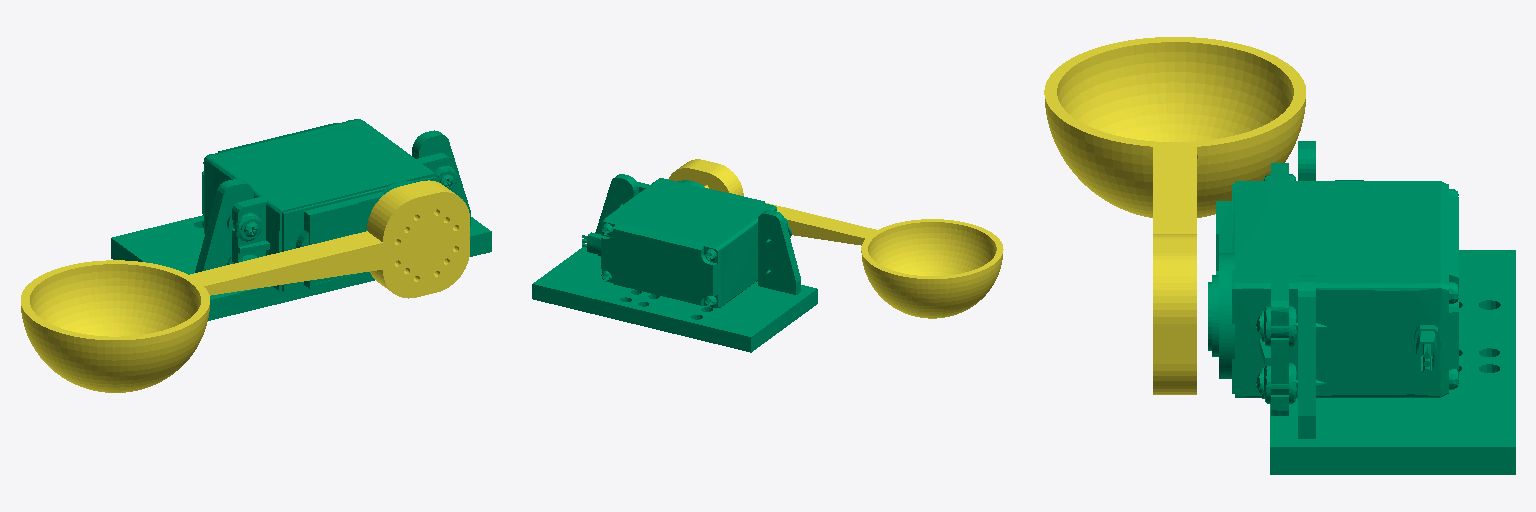
URDF robot description (turtlebot3_burger_cam1):
<?xml version="1.0"?>
<robot name="turtlebot3_burger_cam1"
  xmlns:xacro="http://ros.org/wiki/xacro">

  <material name="black">
    <color rgba="0.0 0.0 0.0 1.0" />
  </material>

  <material name="dark">
    <color rgba="0.3 0.3 0.3 1.0" />
  </material>

  <material name="light_black">
    <color rgba="0.4 0.4 0.4 1.0" />
  </material>

  <material name="blue">
    <color rgba="0.0 0.0 0.8 1.0" />
  </material>

  <material name="green">
    <color rgba="0.0 0.8 0.0 1.0" />
  </material>

  <material name="grey">
    <color rgba="0.5 0.5 0.5 1.0" />
  </material>

  <material name="orange">
    <color rgba="1.0 0.4235 0.0392 1.0" />
  </material>

  <material name="brown">
    <color rgba="0.8706 0.8118 0.7647 1.0" />
  </material>

  <material name="red">
    <color rgba="0.8 0.0 0.0 1.0" />
  </material>

  <material name="white">
    <color rgba="1.0 1.0 1.0 1.0" />
  </material>

  <link name="base_footprint" />

  <joint name="base_joint" type="fixed">
    <parent link="base_footprint" />
    <child link="base_link" />
    <origin xyz="0.0 0.0 0.010" rpy="0 0 0" />
  </joint>

  <link name="base_link">
    <visual>
      <origin xyz="-0.032 0 0.0" rpy="0 0 0" />
      <geometry>
        <mesh filename="package://catapaf_gazebo/models/catapaf_common/meshes/bases/burger_base.stl"
          scale="0.001 0.001 0.001" />
      </geometry>
      <material name="light_black" />
    </visual>

    <collision>
      <origin xyz="-0.032 0 0.070" rpy="0 0 0" />
      <geometry>
        <box size="0.140 0.140 0.143" />
      </geometry>
    </collision>

    <inertial>
      <origin xyz="0 0 0" rpy="0 0 0" />
      <mass value="8.2573504e-01" />
      <inertia ixx="2.2124416e-03" ixy="-1.2294101e-05" ixz="3.4938785e-05" iyy="2.1193702e-03"
        iyz="-5.0120904e-06" izz="2.0064271e-03" />
    </inertial>
  </link>

  <joint name="wheel_left_joint" type="continuous">
    <parent link="base_link" />
    <child link="wheel_left_link" />
    <origin xyz="0.0 0.08 0.023" rpy="-1.57 0 0" />
    <axis xyz="0 0 1" />
  </joint>

  <link name="wheel_left_link">
    <visual>
      <origin xyz="0 0 0" rpy="1.57 0 0" />
      <geometry>
        <mesh filename="package://catapaf_gazebo/models/catapaf_common/meshes/wheels/left_tire.stl"
          scale="0.001 0.001 0.001" />
      </geometry>
      <material name="dark" />
    </visual>

    <collision>
      <origin xyz="0 0 0" rpy="0 0 0" />
      <geometry>
        <cylinder length="0.018" radius="0.033" />
      </geometry>
    </collision>

    <inertial>
      <origin xyz="0 0 0" />
      <mass value="2.8498940e-02" />
      <inertia ixx="1.1175580e-05" ixy="-4.2369783e-11" ixz="-5.9381719e-09" iyy="1.1192413e-05"
        iyz="-1.4400107e-11" izz="2.0712558e-05" />
    </inertial>
  </link>

  <joint name="wheel_right_joint" type="continuous">
    <parent link="base_link" />
    <child link="wheel_right_link" />
    <origin xyz="0.0 -0.080 0.023" rpy="-1.57 0 0" />
    <axis xyz="0 0 1" />
  </joint>

  <link name="wheel_right_link">
    <visual>
      <origin xyz="0 0 0" rpy="1.57 0 0" />
      <geometry>
        <mesh filename="package://catapaf_gazebo/models/catapaf_common/meshes/wheels/right_tire.stl"
          scale="0.001 0.001 0.001" />
      </geometry>
      <material name="dark" />
    </visual>

    <collision>
      <origin xyz="0 0 0" rpy="0 0 0" />
      <geometry>
        <cylinder length="0.018" radius="0.033" />
      </geometry>
    </collision>

    <inertial>
      <origin xyz="0 0 0" />
      <mass value="2.8498940e-02" />
      <inertia ixx="1.1175580e-05" ixy="-4.2369783e-11" ixz="-5.9381719e-09" iyy="1.1192413e-05"
        iyz="-1.4400107e-11" izz="2.0712558e-05" />
    </inertial>
  </link>

  <joint name="caster_back_joint" type="fixed">
    <parent link="base_link" />
    <child link="caster_back_link" />
    <origin xyz="-0.081 0 -0.004" rpy="-1.57 0 0" />
  </joint>

  <link name="caster_back_link">
    <collision>
      <origin xyz="0 0.001 0" rpy="0 0 0" />
      <geometry>
        <box size="0.030 0.009 0.020" />
      </geometry>
    </collision>

    <inertial>
      <origin xyz="0 0 0" />
      <mass value="0.005" />
      <inertia ixx="0.001" ixy="0.0" ixz="0.0" iyy="0.001" iyz="0.0" izz="0.001" />
    </inertial>
  </link>

  <joint name="imu_joint" type="fixed">
    <parent link="base_link" />
    <child link="imu_link" />
    <origin xyz="-0.032 0 0.068" rpy="0 0 0" />
  </joint>

  <link name="imu_link" />

  <joint name="scan_joint" type="fixed">
    <parent link="base_link" />
    <child link="base_scan" />
    <origin xyz="-0.032 0 0.172" rpy="0 0 0" />
  </joint>

  <link name="base_scan">
    <visual>
      <origin xyz="0 0 0.0" rpy="0 0 0" />
      <geometry>
        <mesh filename="package://catapaf_gazebo/models/catapaf_common/meshes/sensors/lds.stl"
          scale="0.001 0.001 0.001" />
      </geometry>
      <material name="dark" />
    </visual>

    <collision>
      <origin xyz="0.015 0 -0.0065" rpy="0 0 0" />
      <geometry>
        <cylinder length="0.0315" radius="0.055" />
      </geometry>
    </collision>

    <inertial>
      <mass value="0.114" />
      <origin xyz="0 0 0" />
      <inertia ixx="0.001" ixy="0.0" ixz="0.0" iyy="0.001" iyz="0.0" izz="0.001" />
    </inertial>
  </link>

  <!-- OAK-D Pro Camera -->
  <link name="oak_d_pro_camera">
    <visual>
      <origin xyz="0 0 0" rpy="0 0 1.5707" />
      <geometry>
        <mesh filename="package://catapaf_gazebo/models/catapaf_common/meshes/sensors/OAK-D-PRO.stl" />
      </geometry>
    </visual>
    <collision>
      <origin xyz="0 -0.005 -0.01" />
      <geometry>
        <box size="0.1 0.03 0.02" />
      </geometry>
    </collision>
    <inertial>
      <origin xyz="0 0 0" />
      <mass value="0.091" />
      <inertia ixx="1e-4" ixy="0.0" ixz="0.0" iyy="1e-4" iyz="0.0" izz="1e-4" />
    </inertial>
  </link>

  <joint name="joint_oak_d_pro_camera" type="fixed">
    <parent link="base_link" />
    <child link="oak_d_pro_camera" />
    <origin xyz="0.065 0 0.11" rpy="0 0 0" />
  </joint>

  <link name="oak_d_pro_color_optical_frame" />
  <joint name="joint_oak_d_pro_color_optical_frame" type="fixed">
    <parent link="oak_d_pro_camera" />
    <child link="oak_d_pro_color_optical_frame" />
    <origin xyz="0 0 0" rpy="-1.5707 0 -1.5707" />
  </joint>

  <link name="oak_d_pro_depth_optical_frame" />
  <joint name="joint_oak_d_pro_depth_optical_frame" type="fixed">
    <parent link="oak_d_pro_camera" />
    <child link="oak_d_pro_depth_optical_frame" />
    <origin xyz="0 0 0" rpy="-1.5707 0 -1.5707" />
  </joint>

  <!-- Catapaf Base -->
  <link name="catapaf_base">
    <visual>
      <geometry>
        <mesh
          filename="package://catapaf_gazebo/models/catapaf_common/meshes/catapaf/baseEtServo.stl" />
      </geometry>
    </visual>
    <collision>
      <origin xyz="-0.02 0.02 0" />
      <geometry>
        <box size="0.08 0.05 0.03" />
      </geometry>
    </collision>
    <inertial>
      <origin xyz="0 0 0" />
      <mass value="0.15" />
      <inertia ixx="0.0002" ixy="0" ixz="0" iyy="0.0002" iyz="0" izz="0.0002" />
    </inertial>
  </link>

  <joint name="catapaf_base_mount" type="fixed">
    <parent link="base_link" />
    <child link="catapaf_base" />
    <origin xyz="-0.03 -0.09 0.11" />
  </joint>

  <!-- Catapaf Arm -->
  <link name="catapaf_arm">
    <visual>
      <geometry>
        <mesh filename="package://catapaf_gazebo/models/catapaf_common/meshes/catapaf/catapaf.stl" />
      </geometry>
    </visual>
    <collision>
      <origin xyz="0.05 0 0" />
      <geometry>
        <box size="0.12 0.05 0.03" />
      </geometry>
    </collision>
    <inertial>
      <origin xyz="0.05596964 -0.00000099 -0.00621362" />
      <mass value="0.05000000" />
      <inertia ixx="0.00000512" ixy="-0.00000000" ixz="0.00000175" iyy="0.00003787" iyz="0.00000000"
        izz="0.00003918" />
    </inertial>
  </link>

  <joint name="catapaf_joint" type="revolute">
    <parent link="catapaf_base" />
    <child link="catapaf_arm" />
    <origin xyz="0 -0.008 0" rpy="3.14159265359 3.14159265359 0" />
    <axis xyz="0 1 0" />
    <limit effort="1.0" lower="-1.5" upper="1.3" velocity="5.0" />
  </joint>

</robot>

--- Facts derived from the render (not from the file) ---
The picture shows the robot from 3 angles, left to right: view 1: azimuth 30°, elevation 25°; view 2: azimuth 150°, elevation 25°; view 3: azimuth 270°, elevation 25°; orthographic projection.
Robot: turtlebot3_burger_cam1 — 12 links, 11 joints (1 revolute, 2 continuous, 8 fixed); root link base_footprint; default pose: every joint at zero.
Links seen in each view (by area): view 1: catapaf_arm, catapaf_base; view 2: catapaf_base, catapaf_arm; view 3: catapaf_base, catapaf_arm.
Boxes of the visible links, bbox=[...] form: catapaf_arm: bbox=[21, 180, 469, 392]; catapaf_base: bbox=[111, 119, 491, 320]; catapaf_base: bbox=[532, 174, 817, 352]; catapaf_arm: bbox=[668, 159, 1003, 318]; catapaf_base: bbox=[1208, 141, 1515, 474]; catapaf_arm: bbox=[1044, 37, 1305, 394].
Bounding box of the posed robot: 0.1249 × 0.0749 × 0.0303 m (x, y, z).
2 mesh visuals loaded from 7 distinct referenced files (2 binary STL); not drawn: 5 (reference not matched to a file when rendering).